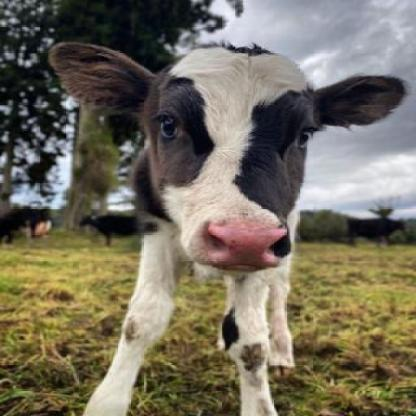lower: (232, 265, 266, 272)
mouth: (184, 209, 294, 273)
upper: (240, 229, 262, 248)
